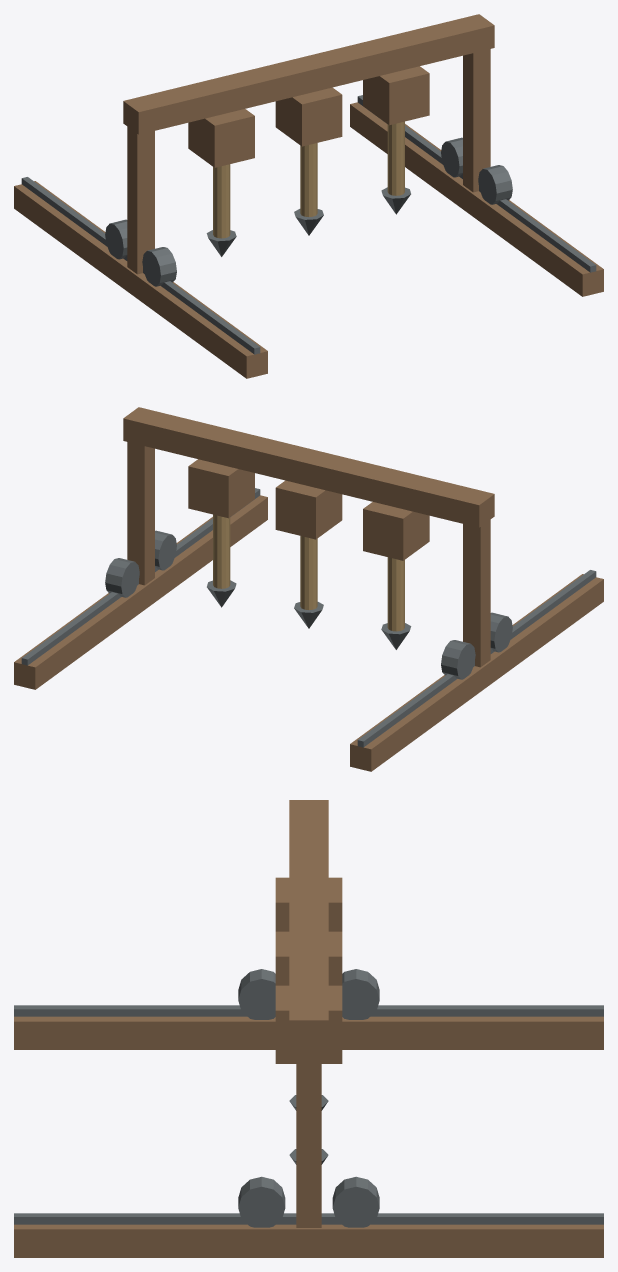
The model's file is vf_planter.glb.
3 renders of one model, top to bottom at view 1: azimuth 30°, elevation 25°; view 2: azimuth 150°, elevation 25°; view 3: azimuth 270°, elevation 25°, orthographic. The views are drawn at different scales.
Visible parts, largest first — view 1: Tool_Head_Oak, Static_Oak, Tool_Head_Iron, Static_Iron, Tool_Head_Bronze; view 2: Tool_Head_Oak, Static_Oak, Tool_Head_Iron, Static_Iron, Tool_Head_Bronze; view 3: Static_Oak, Tool_Head_Oak, Static_Iron, Tool_Head_Iron.
Part boxes in pixels (left/top/right/bottom): Tool_Head_Oak: left=123, top=14, right=494, bottom=274; Static_Oak: left=14, top=102, right=603, bottom=378; Tool_Head_Iron: left=105, top=137, right=512, bottom=286; Static_Iron: left=21, top=95, right=596, bottom=354; Tool_Head_Bronze: left=213, top=121, right=404, bottom=238; Tool_Head_Oak: left=123, top=407, right=494, bottom=667; Static_Oak: left=14, top=495, right=603, bottom=771; Tool_Head_Iron: left=105, top=530, right=512, bottom=679; Static_Iron: left=21, top=488, right=596, bottom=747; Tool_Head_Bronze: left=213, top=514, right=404, bottom=631; Static_Oak: left=14, top=1016, right=603, bottom=1257; Tool_Head_Oak: left=275, top=800, right=342, bottom=1227; Static_Iron: left=14, top=1005, right=603, bottom=1224; Tool_Head_Iron: left=238, top=969, right=379, bottom=1227.
Bounding box in the file's own units: 2.66 × 1.33 × 3.
